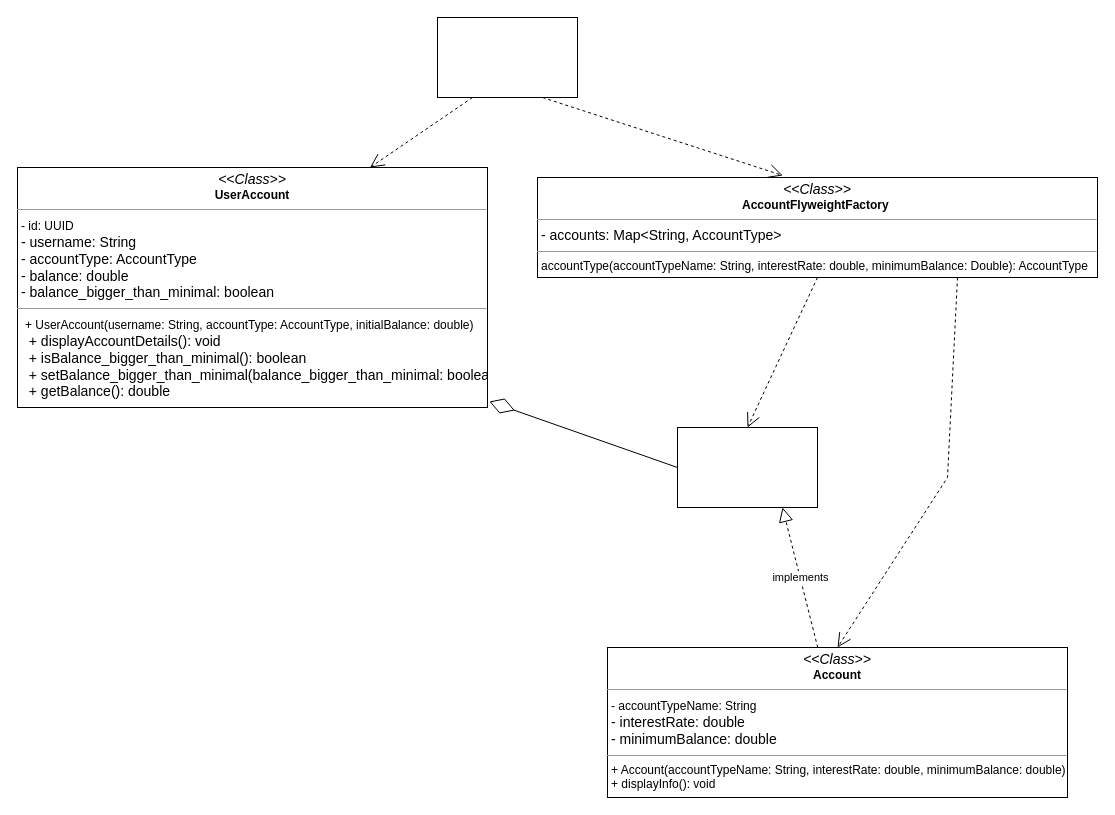
Some shapes in this 1115 by 815 pixel diagram are drawn without their labels. The shapes that lost their labels are listed below. From the top down, each one's box as (x1, y1, x2, y2) in pixels, then its label:
(436, 16, 578, 98): <<Class>> Main + main(String[]): void
(676, 426, 818, 508): <<Interface>> AccountType + displayInfo(): void
